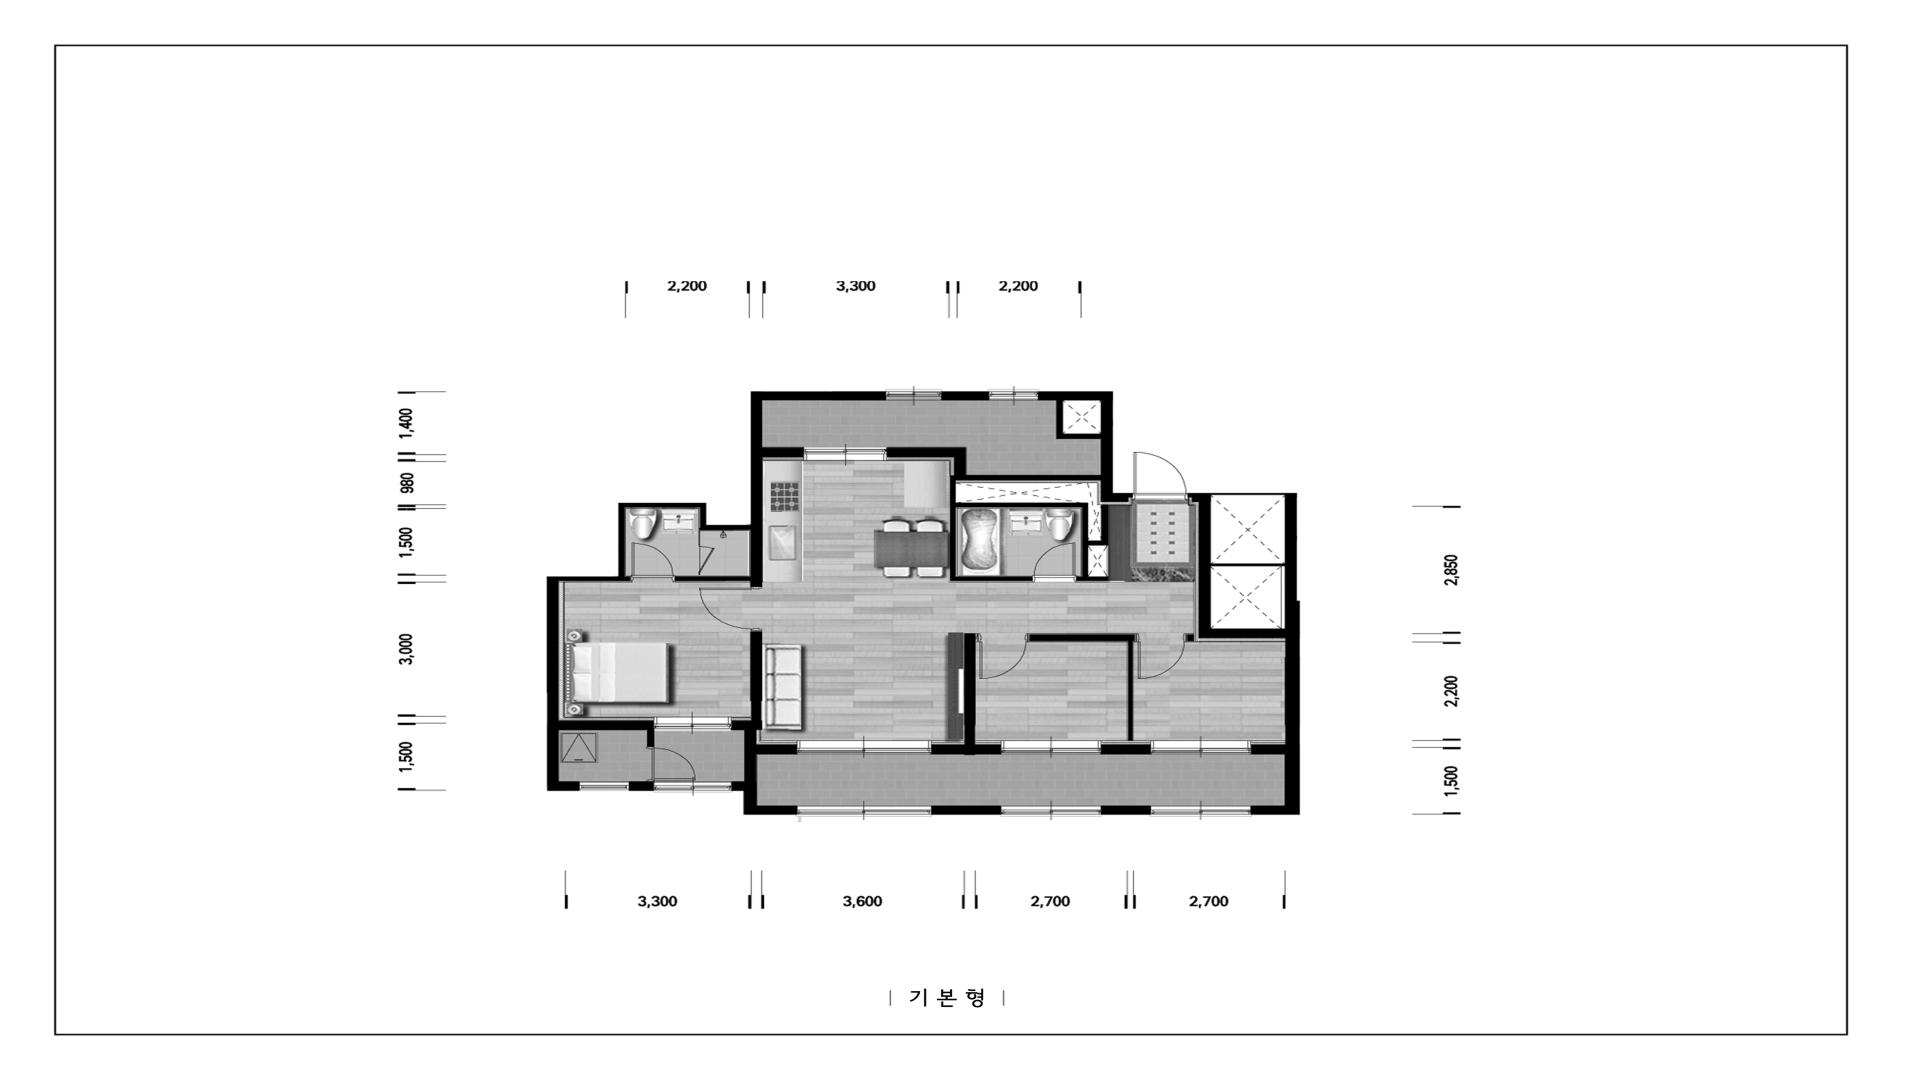door: (699, 587, 762, 632), (1133, 451, 1187, 500), (976, 633, 1027, 679), (1137, 633, 1185, 679), (630, 542, 675, 583), (1033, 542, 1076, 583), (646, 748, 696, 781), (698, 545, 716, 575)
wall: (547, 392, 886, 791), (1188, 493, 1300, 815), (949, 475, 1101, 582), (1027, 633, 1137, 741), (1199, 502, 1284, 638), (1038, 392, 1133, 502), (956, 502, 1088, 576), (732, 632, 762, 731), (559, 720, 654, 746), (732, 781, 798, 815), (886, 447, 967, 475), (1056, 401, 1101, 439), (964, 633, 976, 744), (1088, 505, 1109, 546), (931, 744, 1001, 754), (750, 530, 762, 587), (744, 731, 757, 781), (931, 806, 1001, 815), (675, 575, 750, 582), (1101, 745, 1151, 754), (1101, 806, 1151, 815), (762, 447, 804, 458), (942, 392, 989, 401), (757, 744, 798, 754), (1251, 745, 1284, 754), (629, 781, 654, 791), (1211, 563, 1284, 566), (1076, 576, 1109, 582), (1185, 633, 1193, 642), (698, 530, 700, 545), (626, 576, 630, 582)
window: (798, 740, 931, 754), (1151, 740, 1251, 754), (1001, 740, 1101, 754), (798, 806, 931, 816), (654, 716, 732, 732), (1001, 806, 1101, 818), (804, 447, 886, 462), (1151, 806, 1250, 816), (654, 781, 731, 793), (886, 389, 942, 401), (989, 389, 1038, 401), (580, 781, 629, 791)
